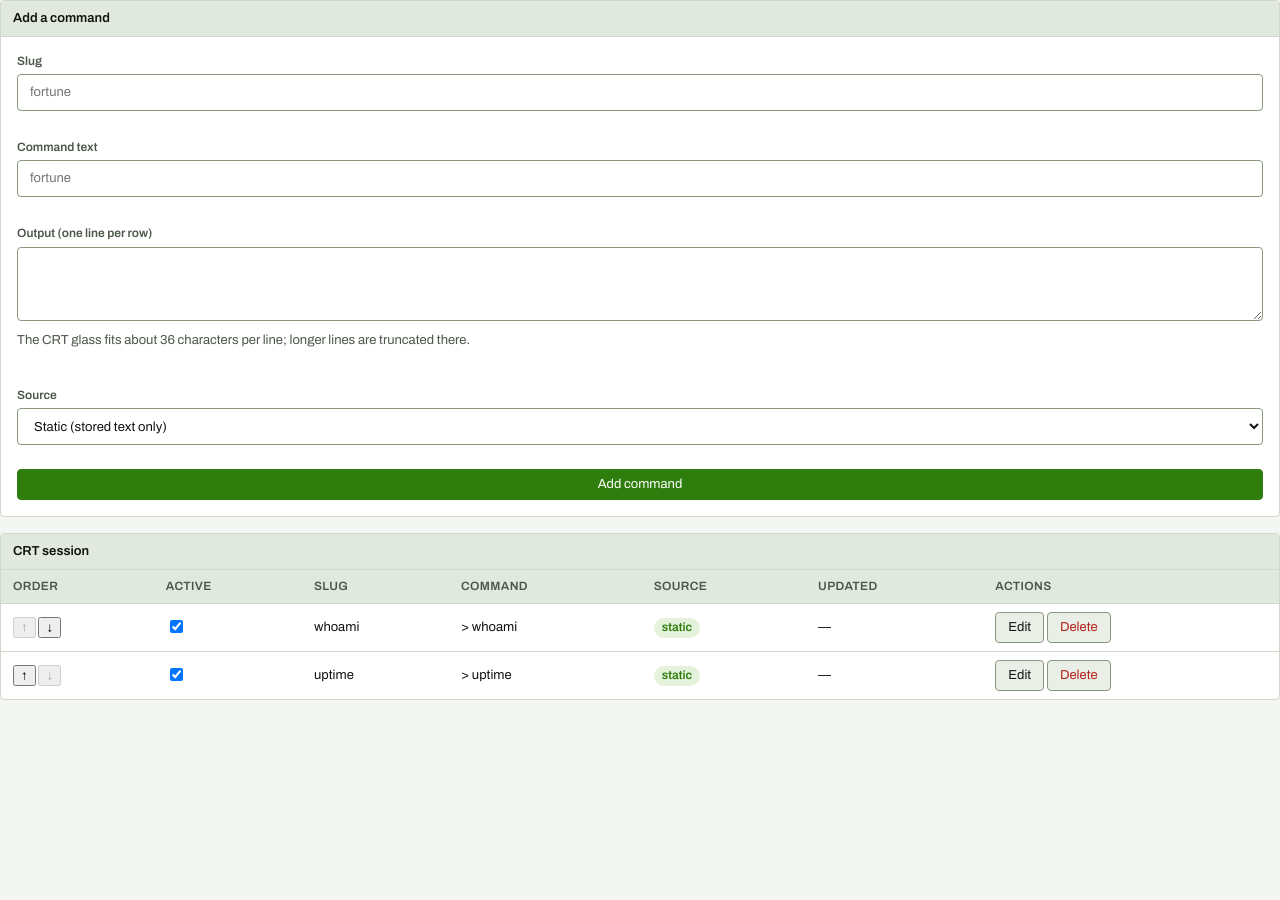
Test: CrtCommands — save note (#0403) › shows the save note after a successful active-toggle
The width and height of the screenshot is (1280, 900).
Click the checkbox named "Toggle whoami active" at [176, 626], box [170, 620, 183, 633]
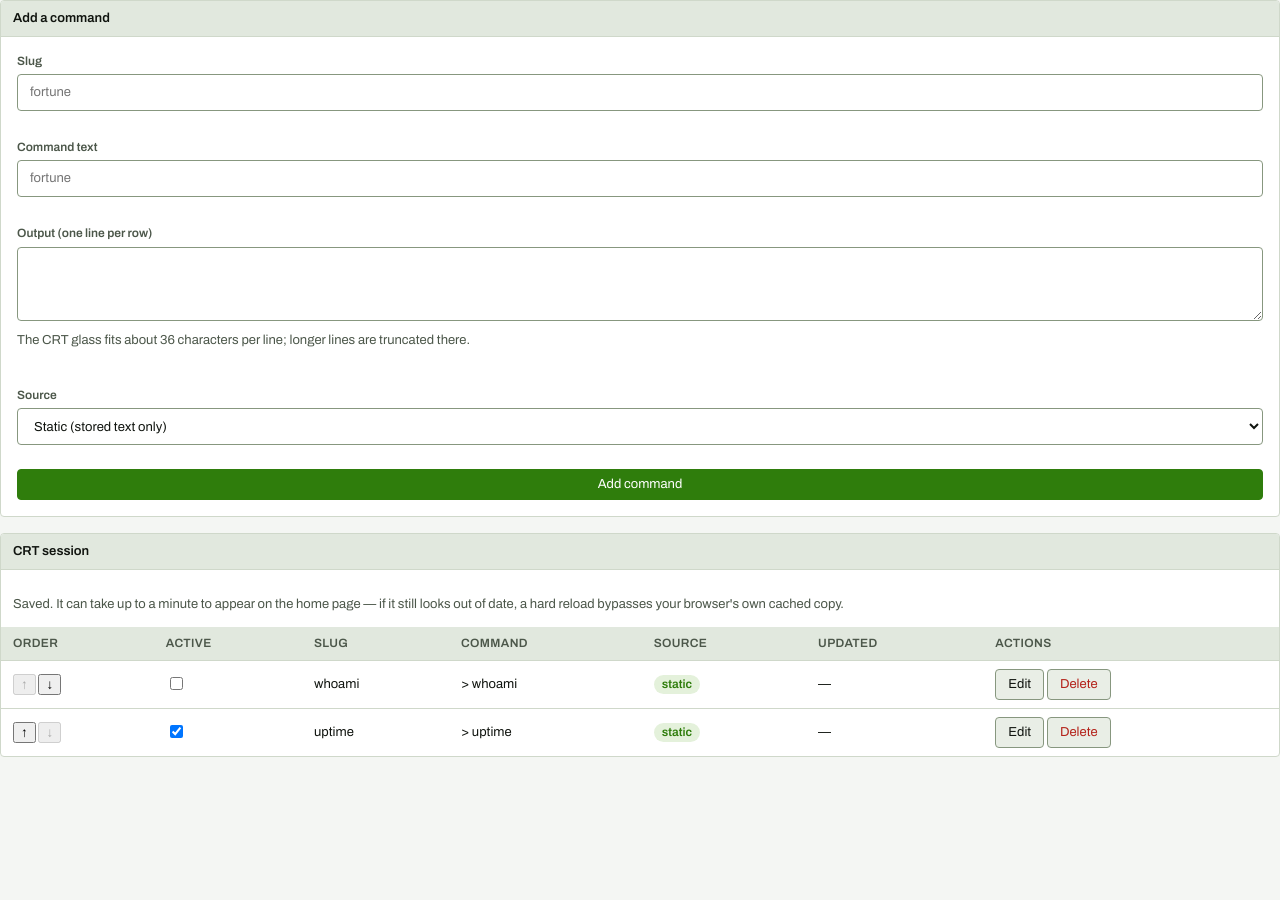
Result: the text "up to a minute" is shown at [13, 597, 844, 611]
